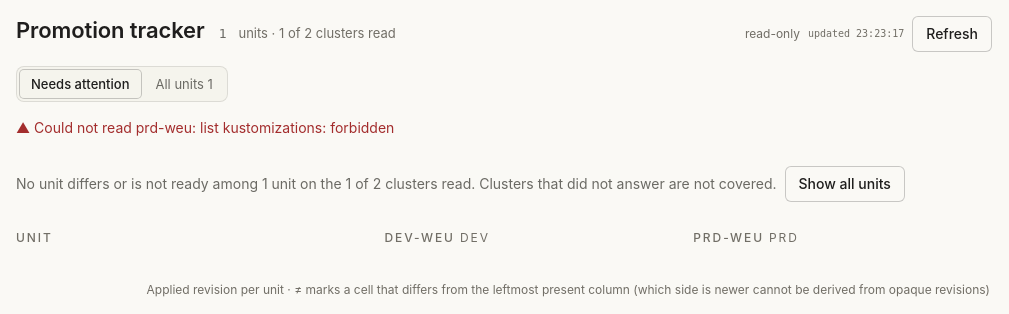
Scenario: FleetPromotion › a failed cluster read renders its error
expect the text "▲ Could not read prd-weu: list kustomizations: forbidden" is shown: met, box [16,119,394,136]
an unread cluster's cell says unread, never "absent"
Click the button "All units 1": x=184, y=84 [144,69,225,99]
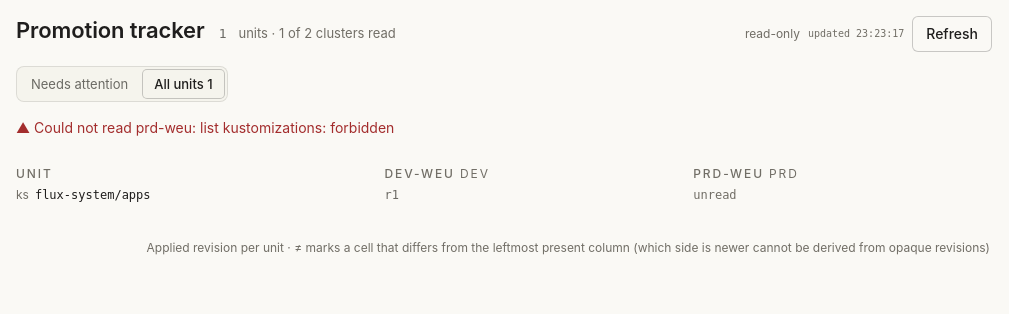
expect the text "unread" is shown: met, box [693,188,737,202]
